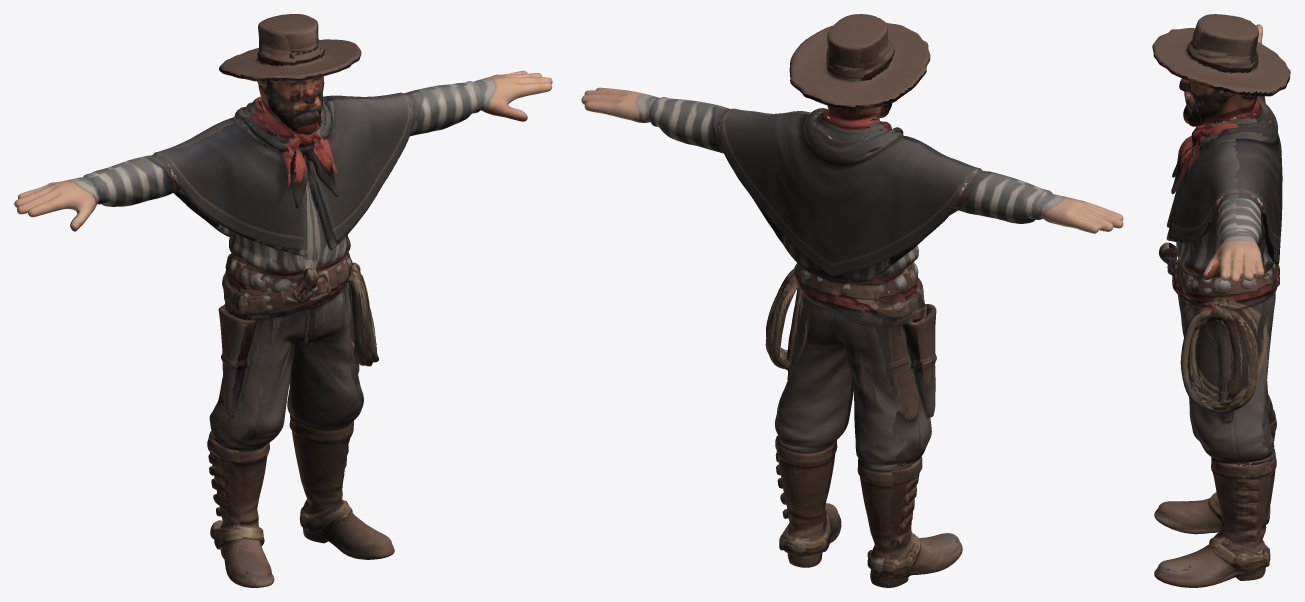
Rendered from ZenonT_mixamo.fbx.
3 views of the same model, side by side, from view 1: azimuth 30°, elevation 25°; view 2: azimuth 150°, elevation 25°; view 3: azimuth 270°, elevation 25° (orthographic).
Visible parts, largest first — view 1: ZenonT; view 2: ZenonT; view 3: ZenonT.
Boxes of the visible parts, box(x1,y1,x2,y2) form: ZenonT: box(14, 14, 552, 587); ZenonT: box(581, 14, 1123, 587); ZenonT: box(1152, 14, 1290, 587).
Bounding box in the file's own units: 190 × 182 × 42.87.
1 material, 1 textured.
